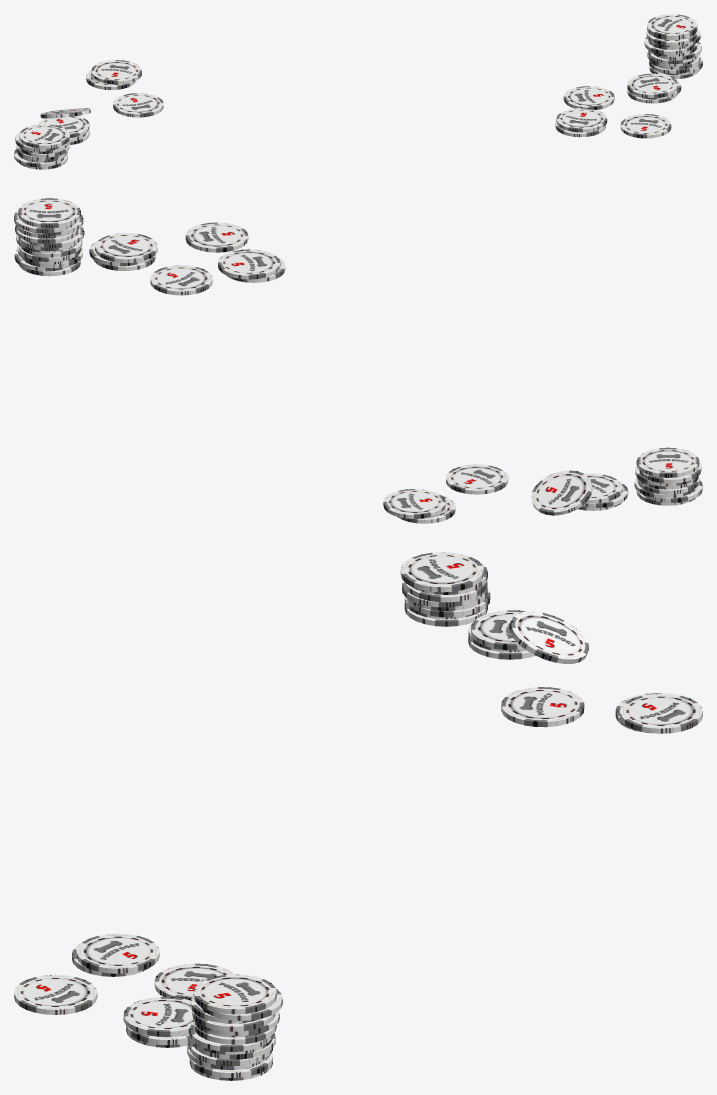
Rendered from Chips.FBX.
3 renders of one model, top to bottom at view 1: azimuth 30°, elevation 25°; view 2: azimuth 150°, elevation 25°; view 3: azimuth 270°, elevation 25°, orthographic. The views are drawn at different scales.
Parts seen in each view (by area): view 1: ChipsPile_01, ChipsPile_02; view 2: ChipsPile_01, ChipsPile_02; view 3: ChipsPile_01, ChipsPile_02.
Boxes of the visible parts, bbox=[...] form: ChipsPile_01: bbox=[555, 14, 702, 138]; ChipsPile_02: bbox=[14, 60, 163, 169]; ChipsPile_01: bbox=[14, 198, 285, 295]; ChipsPile_02: bbox=[383, 447, 702, 523]; ChipsPile_01: bbox=[14, 933, 282, 1080]; ChipsPile_02: bbox=[400, 552, 702, 733].
Size of the model in its own units: 39.46 by 2.64 by 23.25.
1 material, 1 textured.
